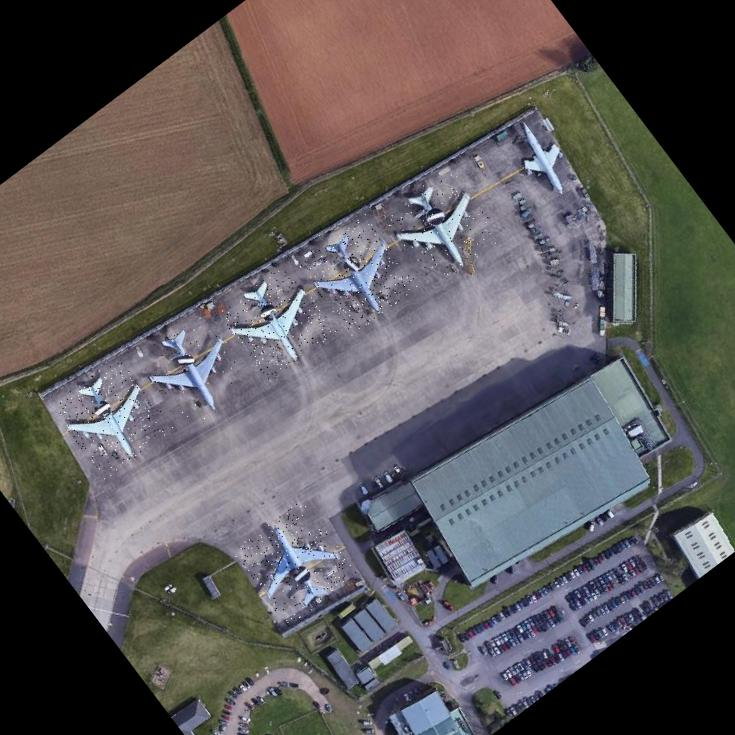A7: (230, 499, 358, 628), (50, 355, 174, 480), (132, 308, 256, 432), (380, 164, 503, 288), (297, 214, 419, 336), (217, 262, 337, 382)
